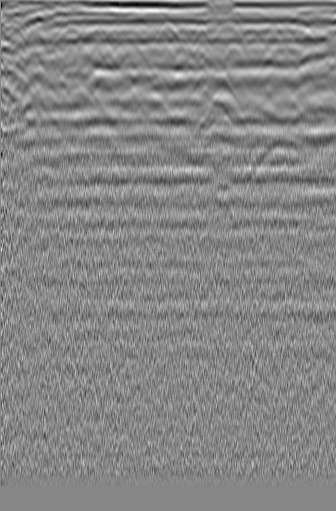가스: (195, 178, 243, 217)
상수: (4, 27, 33, 55)
오수: (251, 43, 282, 77)
우수: (115, 35, 149, 72)
